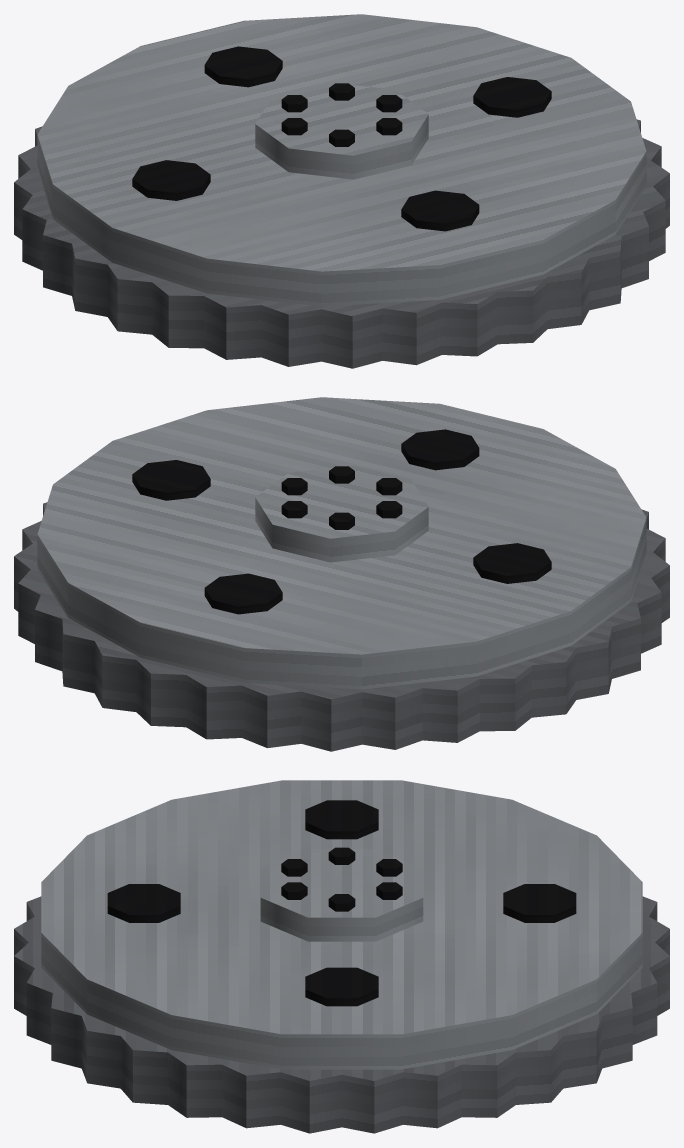
Rendered from volante_motor_n1.glb.
3 views of the same model, one above another, from view 1: azimuth 30°, elevation 25°; view 2: azimuth 150°, elevation 25°; view 3: azimuth 270°, elevation 25° (orthographic).
Parts seen in each view (by area): view 1: volante_motor_n1; view 2: volante_motor_n1; view 3: volante_motor_n1.
Part boxes in pixels (x1,y1,x2,y2): volante_motor_n1: (14, 14, 669, 368); volante_motor_n1: (14, 397, 669, 751); volante_motor_n1: (14, 780, 669, 1133).
Size of the model in its own units: 0.2986 by 0.06 by 0.2986.
1 material, 1 textured.
